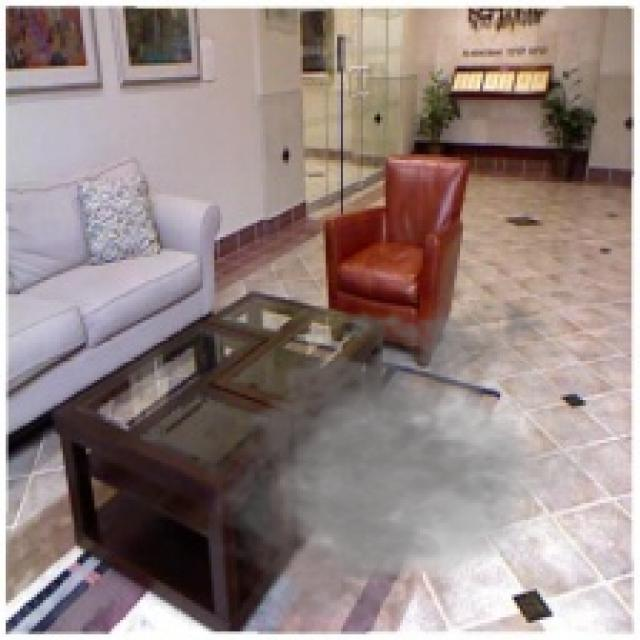smoke: (197, 289, 617, 634)
